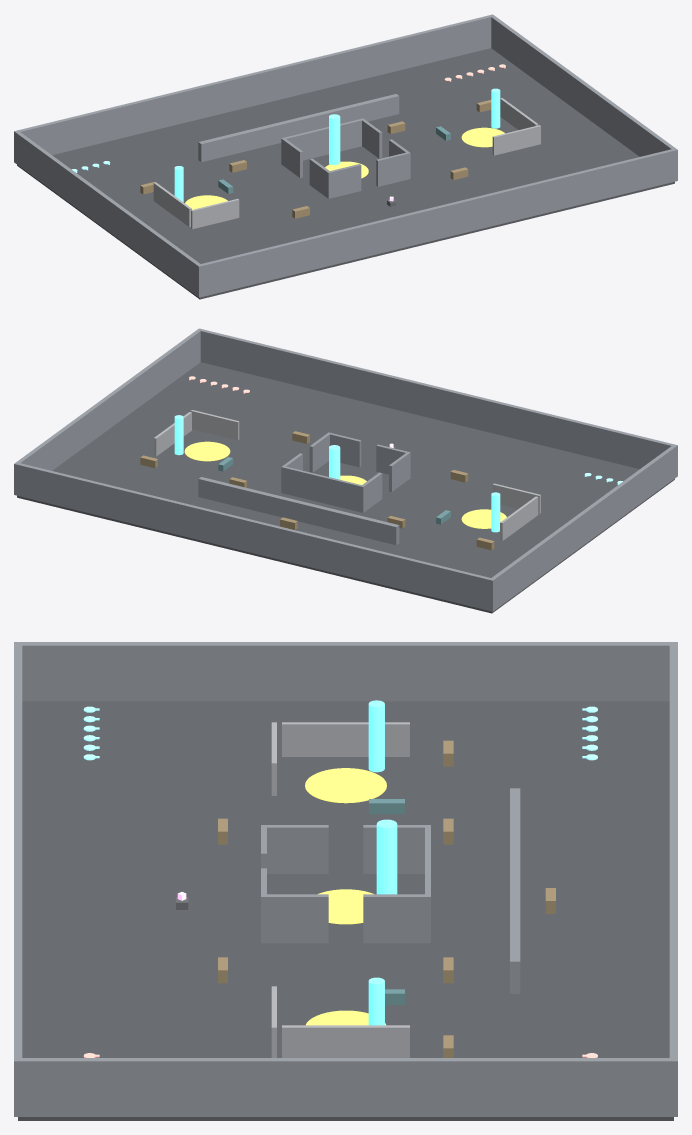
Rendered from three_pylons.glb.
3 views of the same model, one above another, from view 1: azimuth 30°, elevation 25°; view 2: azimuth 150°, elevation 25°; view 3: azimuth 270°, elevation 25° (orthographic). The views are drawn at different scales.
Visible parts, largest first — view 1: floor, perimeter.S0, perimeter.N0, perimeter.W0, perimeter.E0, north_walk, pylon_house_B.N0, bunker_C_s, bunker_A_s, pylon_house_B.S1, pylon_house_B.S0, bunker_A_back (+6 smaller); view 2: floor, perimeter.N0, perimeter.S0, perimeter.W0, perimeter.E0, north_walk, pylon_house_B.N0, bunker_C_s, bunker_A_back, pylon_house_B.S1, zone_C, bunker_A_s (+6 smaller); view 3: floor, perimeter.W0, perimeter.E0, perimeter.N0, perimeter.S0, bunker_C_back, bunker_A_back, pylon_house_B.E0, pylon_house_B.E1, pylon_house_B.W0, zone_A, north_walk (+7 smaller).
Boxes of the visible parts, x1=… form: floor: x1=17, y1=48, x2=674, y2=299; perimeter.S0: x1=196, y1=149, x2=677, y2=297; perimeter.N0: x1=14, y1=14, x2=494, y2=163; perimeter.W0: x1=14, y1=130, x2=202, y2=296; perimeter.E0: x1=491, y1=15, x2=677, y2=156; north_walk: x1=198, y1=94, x2=399, y2=162; pylon_house_B.N0: x1=281, y1=118, x2=363, y2=160; bunker_C_s: x1=492, y1=125, x2=540, y2=155; bunker_A_s: x1=191, y1=198, x2=239, y2=229; pylon_house_B.S1: x1=376, y1=152, x2=410, y2=186; pylon_house_B.S0: x1=327, y1=164, x2=361, y2=198; bunker_A_back: x1=153, y1=182, x2=191, y2=227; floor: x1=17, y1=362, x2=674, y2=613; perimeter.N0: x1=14, y1=463, x2=495, y2=611; perimeter.S0: x1=197, y1=328, x2=677, y2=477; perimeter.W0: x1=489, y1=446, x2=675, y2=611; perimeter.E0: x1=14, y1=328, x2=200, y2=495; north_walk: x1=198, y1=477, x2=399, y2=545; pylon_house_B.N0: x1=281, y1=466, x2=364, y2=512; bunker_C_s: x1=191, y1=410, x2=239, y2=440; bunker_A_back: x1=500, y1=496, x2=538, y2=541; pylon_house_B.S1: x1=328, y1=432, x2=361, y2=467; zone_C: x1=184, y1=441, x2=230, y2=461; bunker_A_s: x1=492, y1=483, x2=540, y2=513; floor: x1=18, y1=701, x2=673, y2=1120; perimeter.W0: x1=14, y1=642, x2=677, y2=701; perimeter.E0: x1=14, y1=1058, x2=677, y2=1116; perimeter.N0: x1=669, y1=642, x2=677, y2=1116; perimeter.S0: x1=14, y1=642, x2=22, y2=1116; bunker_C_back: x1=282, y1=1025, x2=409, y2=1057; bunker_A_back: x1=282, y1=722, x2=409, y2=756; pylon_house_B.E0: x1=261, y1=894, x2=328, y2=943; pylon_house_B.E1: x1=363, y1=894, x2=430, y2=943; pylon_house_B.W0: x1=263, y1=825, x2=328, y2=873; zone_A: x1=305, y1=768, x2=386, y2=803; north_walk: x1=510, y1=788, x2=520, y2=993.
Bounding box in the file's own units: 96.8 × 9.6 × 64.8.
